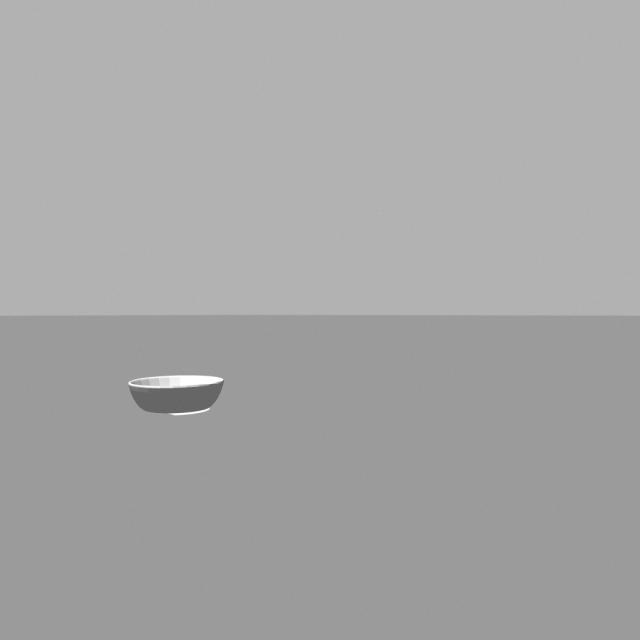bowl: (114, 357, 234, 420)
